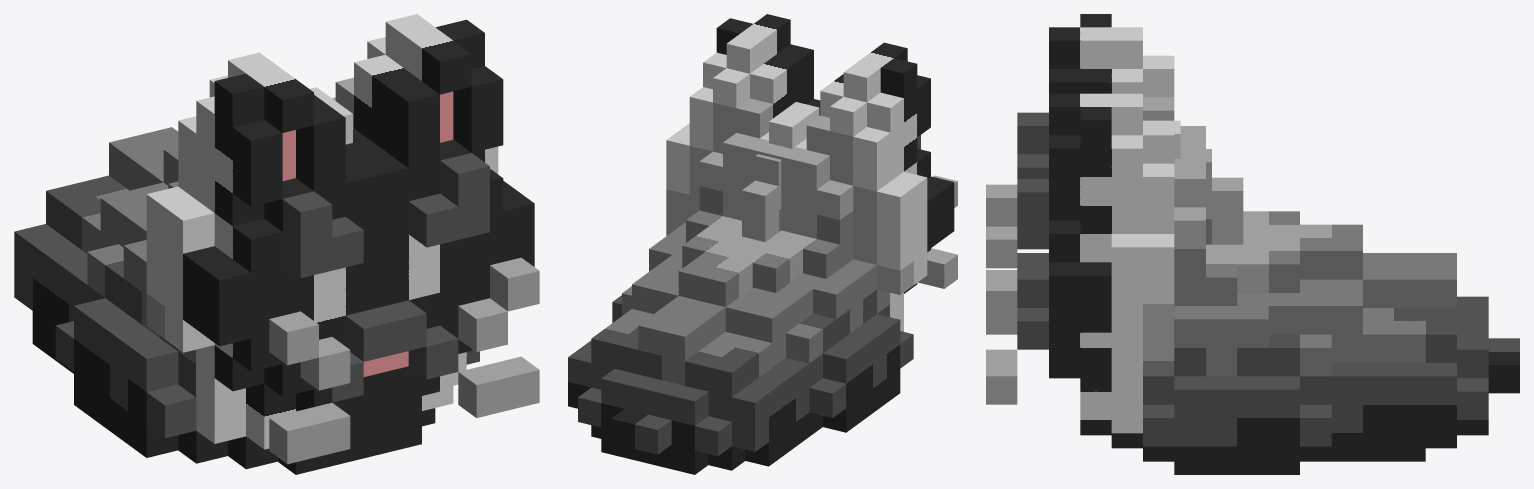
The model's file is skin_noir_1.fbx.
3 renders of one model, left to right at view 1: azimuth 30°, elevation 25°; view 2: azimuth 150°, elevation 25°; view 3: azimuth 270°, elevation 25°, orthographic. The views are drawn at different scales.
Visible parts, largest first — view 1: skin_10-5, skin_10-0; view 2: skin_10-5, skin_10-0; view 3: skin_10-5, skin_10-0.
Boxes of the visible parts, left/top/right/bottom form: skin_10-5: left=14, top=14, right=539, bottom=474; skin_10-0: left=310, top=87, right=352, bottom=144; skin_10-5: left=568, top=14, right=957, bottom=474; skin_10-0: left=742, top=102, right=819, bottom=241; skin_10-5: left=986, top=14, right=1519, bottom=474; skin_10-0: left=1143, top=120, right=1243, bottom=244.
Bounding box in the file's own units: 100 × 121 × 170.
1 material, 1 textured.
